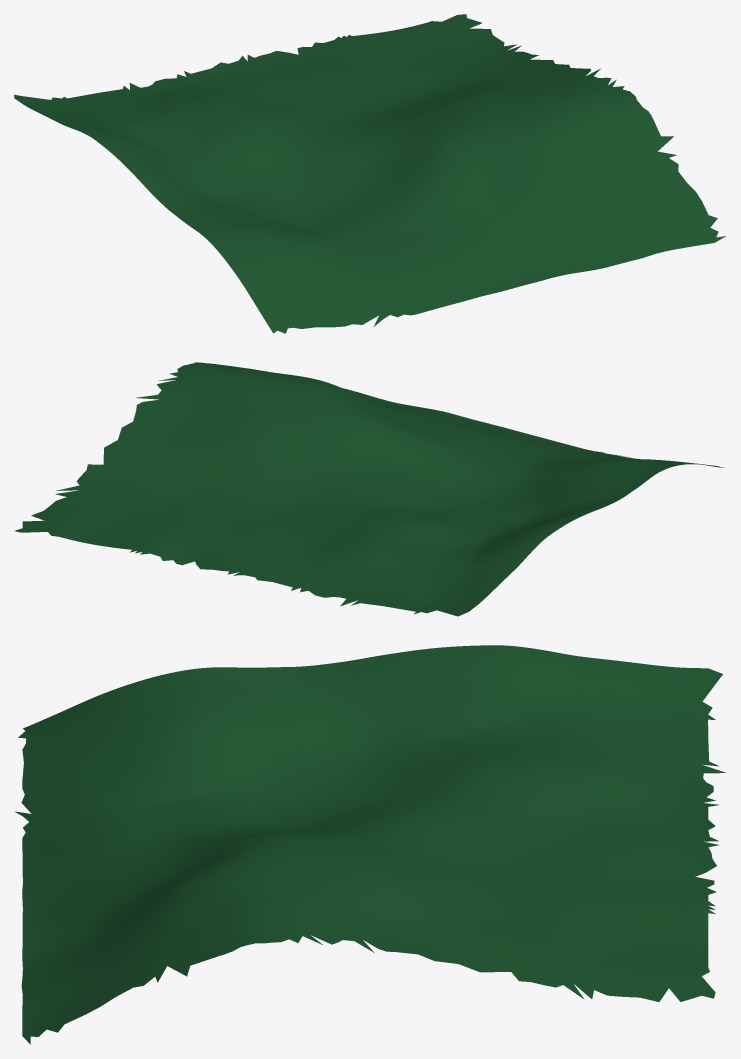
The model's file is payo_land_xm4_ym1.glb.
3 renders of one model, top to bottom at view 1: azimuth 30°, elevation 25°; view 2: azimuth 150°, elevation 25°; view 3: azimuth 270°, elevation 25°, orthographic. The views are drawn at different scales.
Parts seen in each view (by area): view 1: payo_land_xm4_ym1; view 2: payo_land_xm4_ym1; view 3: payo_land_xm4_ym1.
Part boxes in pixels (x1=…): payo_land_xm4_ym1: x1=14, y1=14, x2=725, y2=333; payo_land_xm4_ym1: x1=15, y1=362, x2=725, y2=616; payo_land_xm4_ym1: x1=14, y1=645, x2=725, y2=1044.
Size of the model in its own units: 263 by 43.44 by 265.
